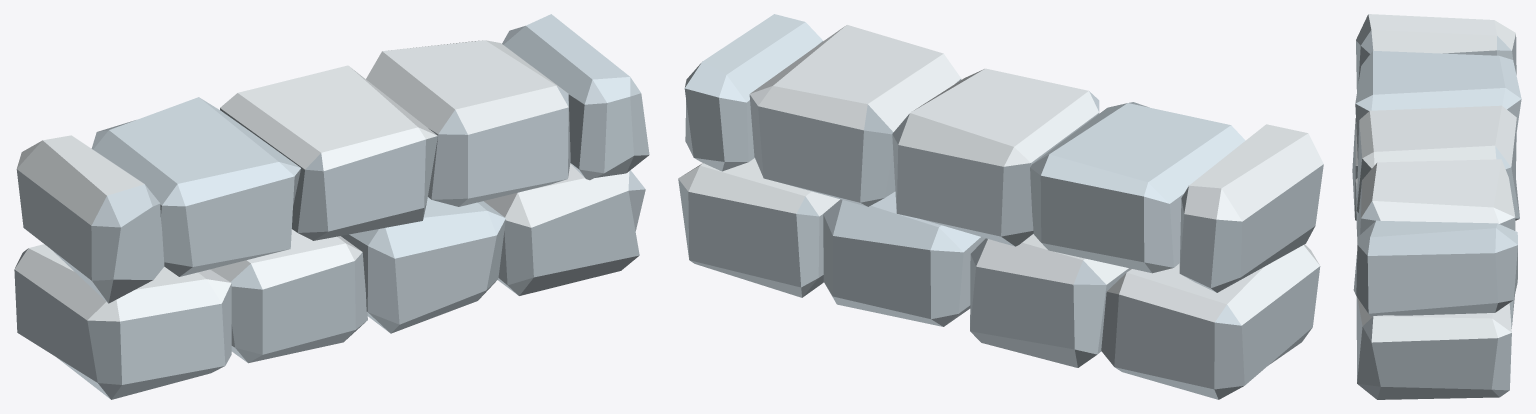
File: snow_wall_straight.glb
3 renders of one model, left to right at view 1: azimuth 30°, elevation 25°; view 2: azimuth 150°, elevation 25°; view 3: azimuth 270°, elevation 25°, orthographic. The views are drawn at different scales.
Visible parts, largest first — view 1: snow_wall_straight; view 2: snow_wall_straight; view 3: snow_wall_straight.
Part boxes in pixels (x1,y1,x2,y2): snow_wall_straight: (14, 14, 649, 399); snow_wall_straight: (678, 14, 1323, 399); snow_wall_straight: (1352, 14, 1521, 399).
Bounding box in the file's own units: 2.02 × 0.7289 × 0.6288.
